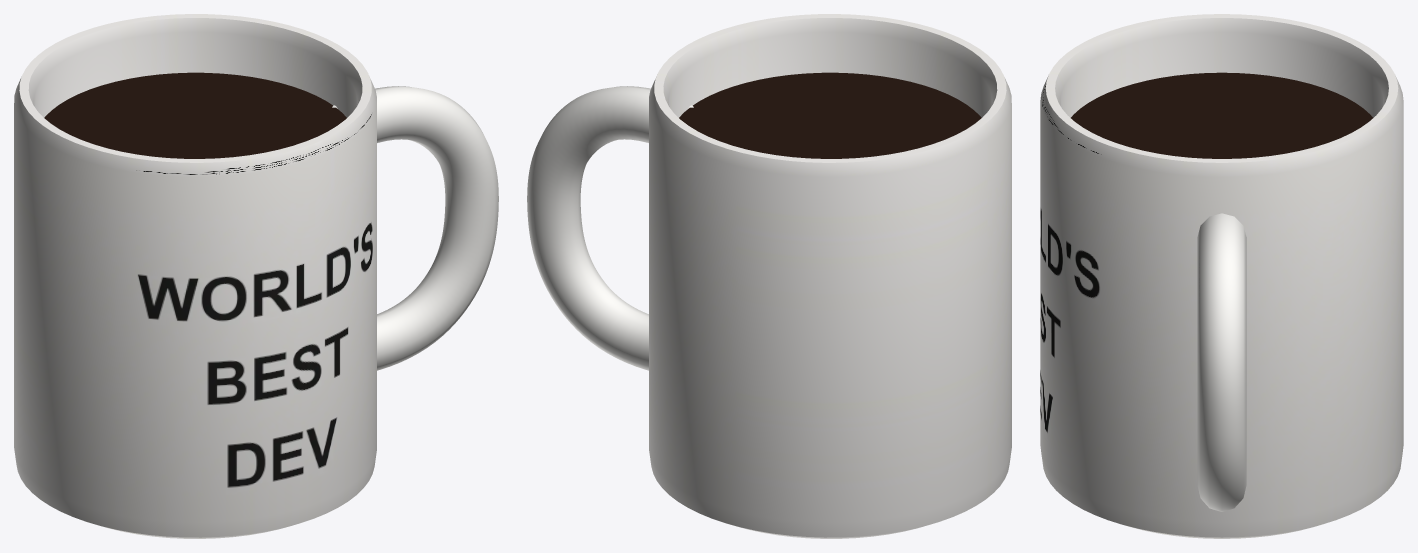
Rendered from cup.glb.
The picture shows the model from 3 angles, left to right: view 1: azimuth 30°, elevation 25°; view 2: azimuth 150°, elevation 25°; view 3: azimuth 270°, elevation 25°; orthographic projection.
Parts seen in each view (by area): view 1: cup, cup_coffee; view 2: cup, cup_coffee; view 3: cup, cup_coffee.
Boxes of the visible parts, bbox=[...] form: cup: bbox=[14, 14, 498, 538]; cup_coffee: bbox=[44, 72, 346, 158]; cup: bbox=[527, 14, 1011, 538]; cup_coffee: bbox=[679, 72, 981, 158]; cup: bbox=[1040, 14, 1403, 538]; cup_coffee: bbox=[1071, 72, 1372, 158].
Bounding box in the file's own units: 0.1193 × 0.095 × 0.082.
Materials: 3 (1 with a texture image).
